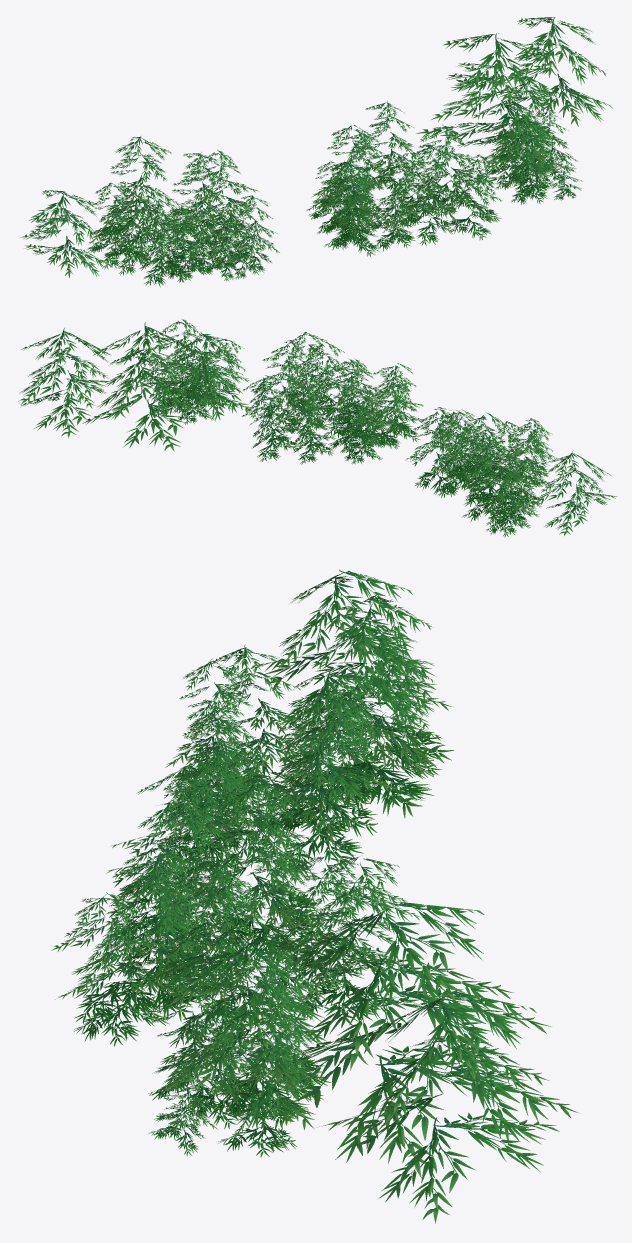
The model's file is Area_06_4.fbx.
The picture shows the model from 3 angles, top to bottom: view 1: azimuth 30°, elevation 25°; view 2: azimuth 150°, elevation 25°; view 3: azimuth 270°, elevation 25°; orthographic projection. The views are drawn at different scales.
Visible parts, largest first — view 1: Area_06_4; view 2: Area_06_4; view 3: Area_06_4.
Boxes of the visible parts, box(x1,y1,x2,y2) form: Area_06_4: box(20, 17, 612, 287); Area_06_4: box(18, 319, 617, 537); Area_06_4: box(51, 570, 579, 1223).
Bounding box in the file's own units: 9010 × 1853 × 3677.
